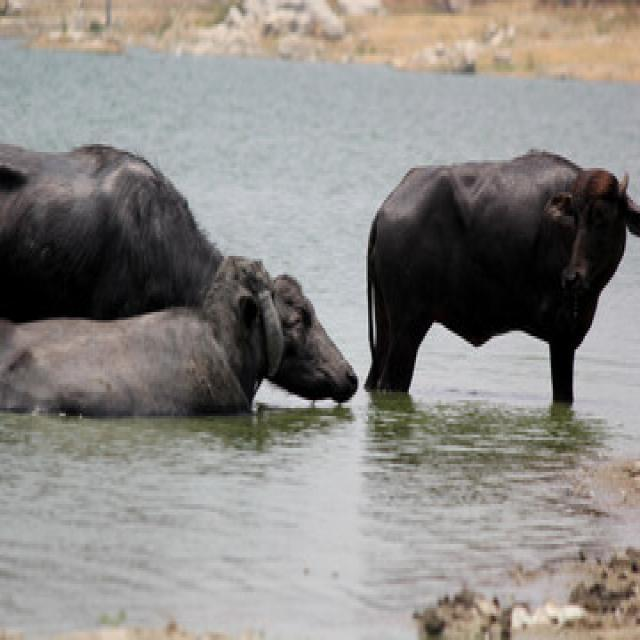Buffalo: (361, 147, 640, 410), (0, 261, 280, 446)
